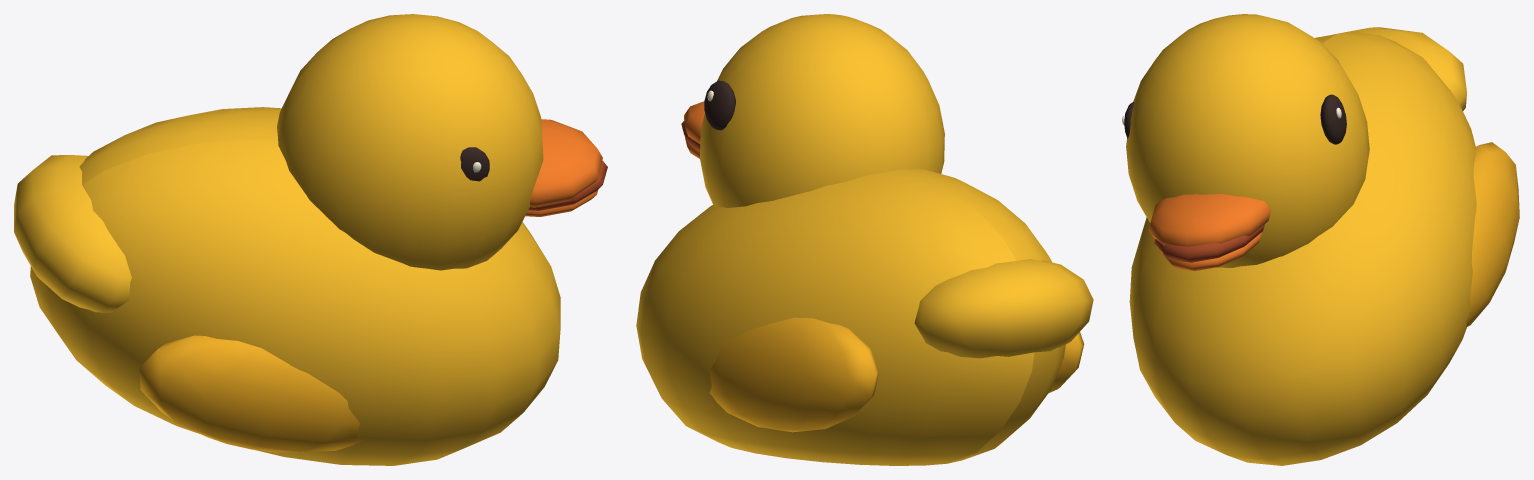
The model's file is duck.glb.
3 views of the same model, side by side, from view 1: azimuth 30°, elevation 25°; view 2: azimuth 150°, elevation 25°; view 3: azimuth 270°, elevation 25° (orthographic). The views are drawn at different scales.
Parts seen in each view (by area): view 1: duck; view 2: duck; view 3: duck.
Part boxes in pixels (left/top/right/bottom): duck: left=14, top=14, right=607, bottom=465; duck: left=636, top=14, right=1093, bottom=465; duck: left=1122, top=14, right=1519, bottom=465.
Bounding box in the file's own units: 1.16 × 0.9712 × 0.8566.
